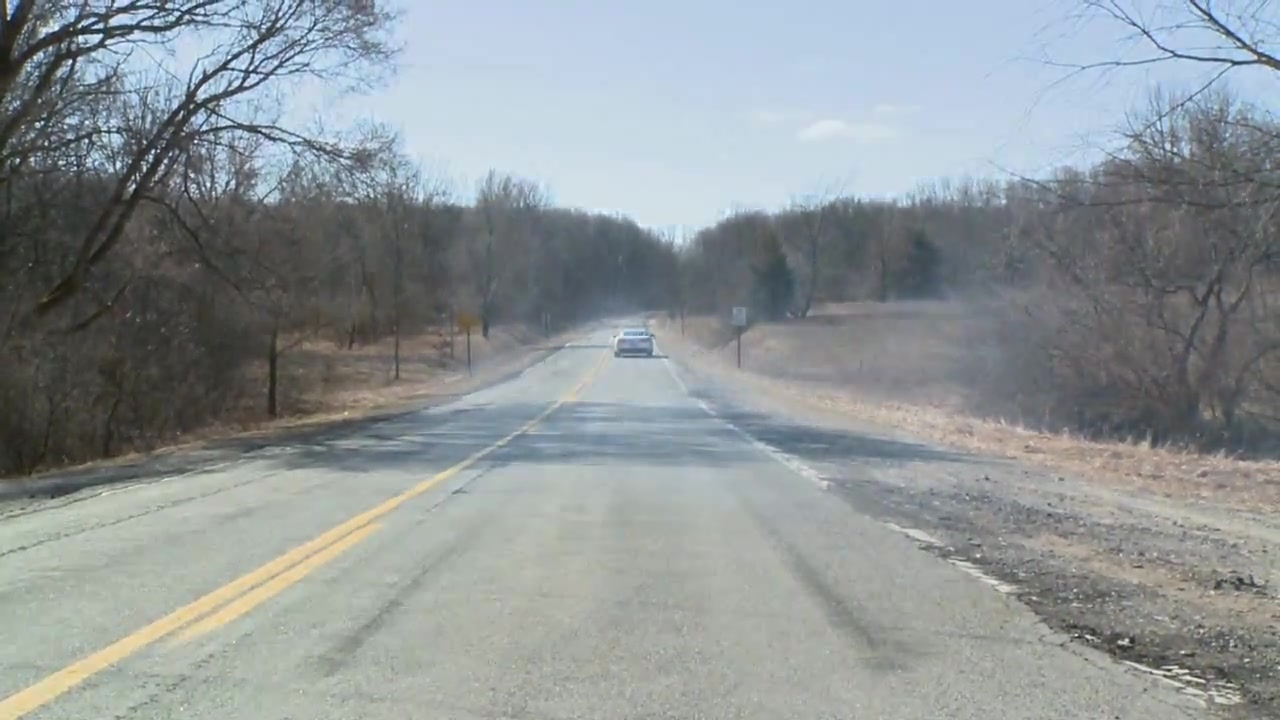car: (613, 327, 657, 360)
